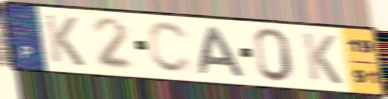0: (252, 26, 296, 84)
2: (90, 15, 137, 73)
A: (197, 26, 248, 79)
C: (146, 20, 196, 76)
K: (299, 31, 345, 87), (42, 12, 87, 69)
